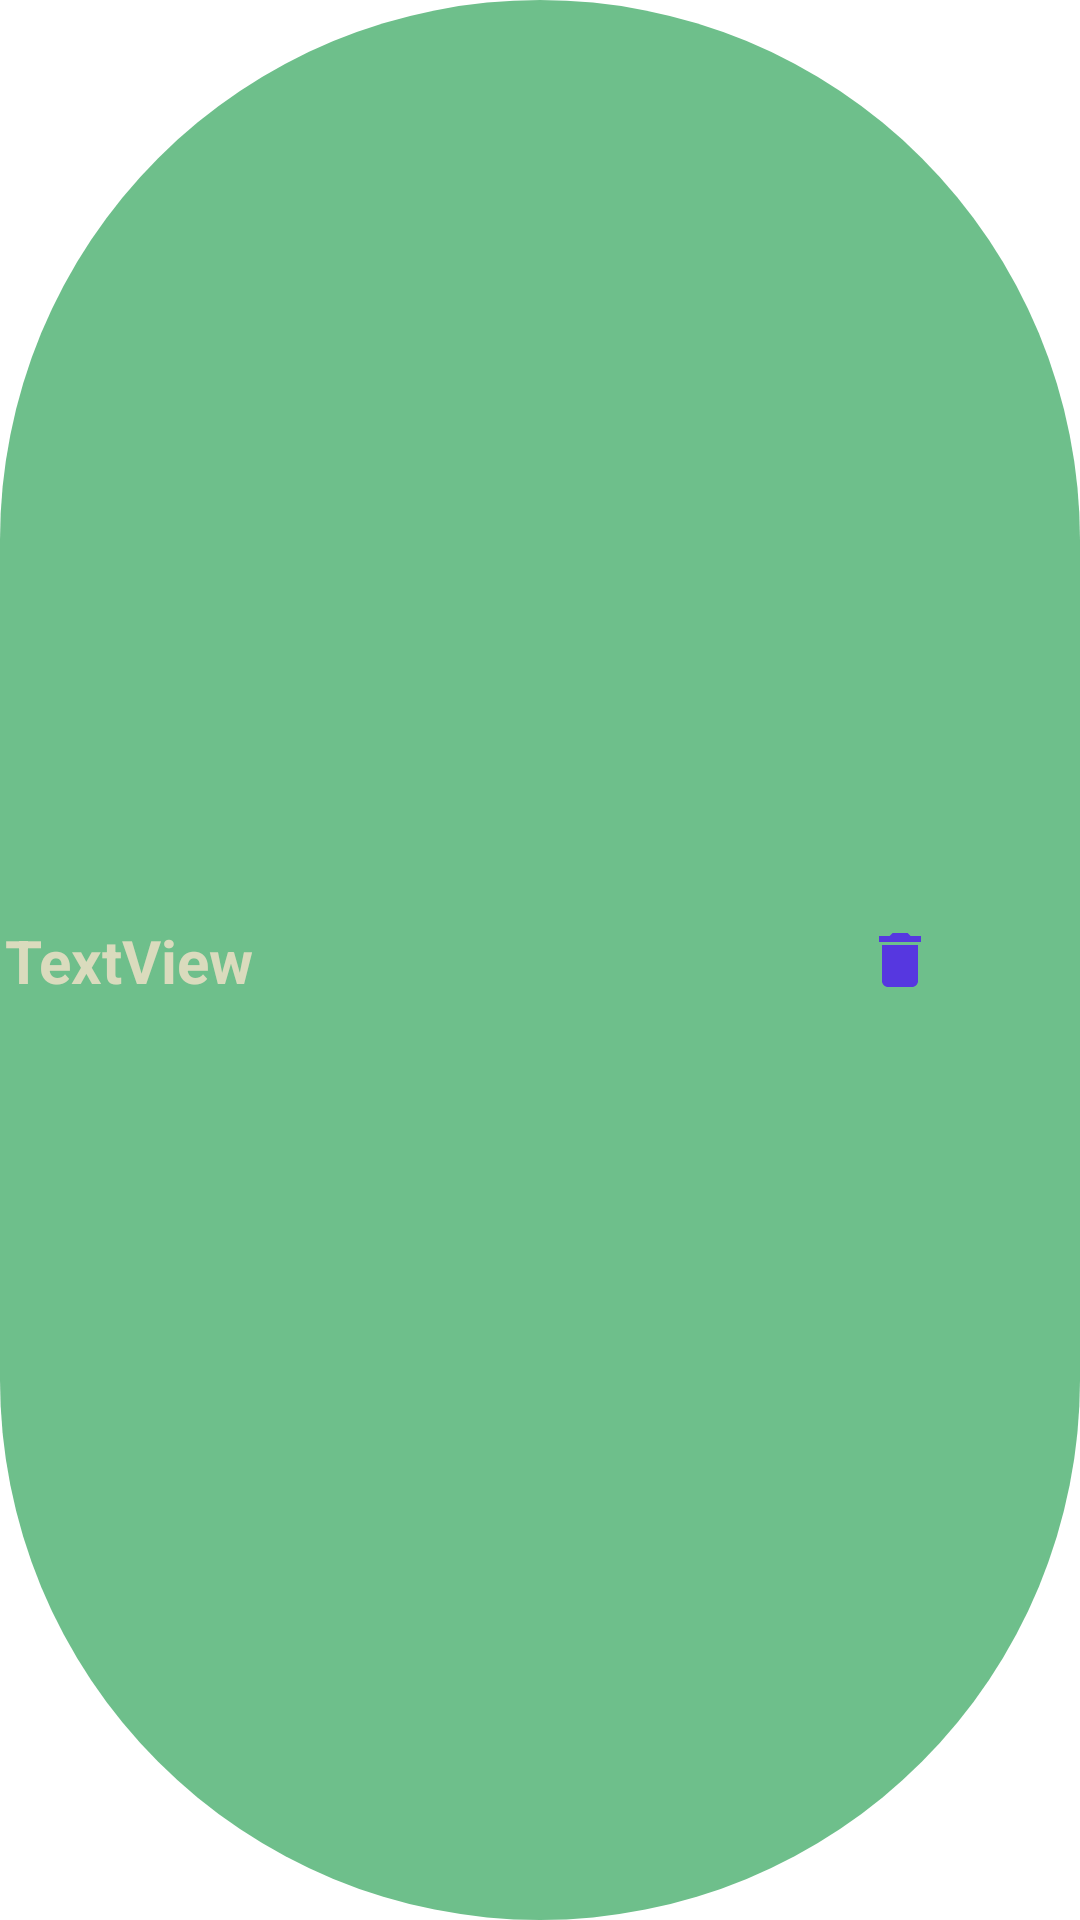

Where icons sit on this 1080w x 1920h app screen, as (x1, y1, x2, y2):
delete: (879, 933, 921, 987)
